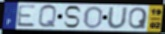E: (16, 4, 38, 28)
O: (83, 6, 104, 30)
Q: (37, 4, 58, 30), (127, 7, 148, 30)
S: (63, 5, 83, 29)
U: (106, 6, 129, 30)
